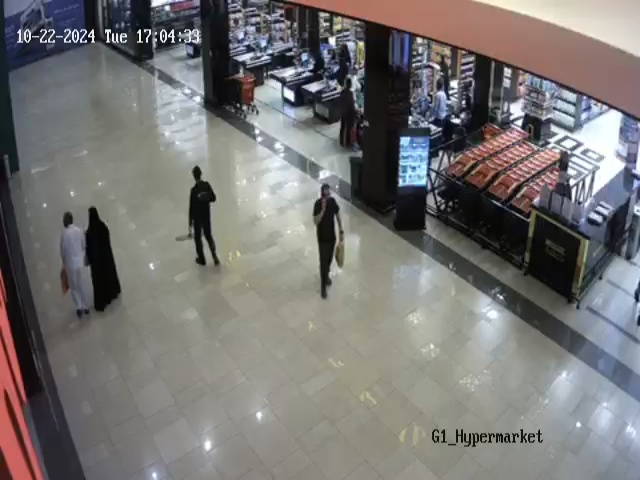female: (84, 206, 122, 313)
male: (310, 180, 343, 301), (59, 211, 91, 319), (189, 165, 221, 267), (338, 77, 357, 151), (428, 77, 449, 120)
